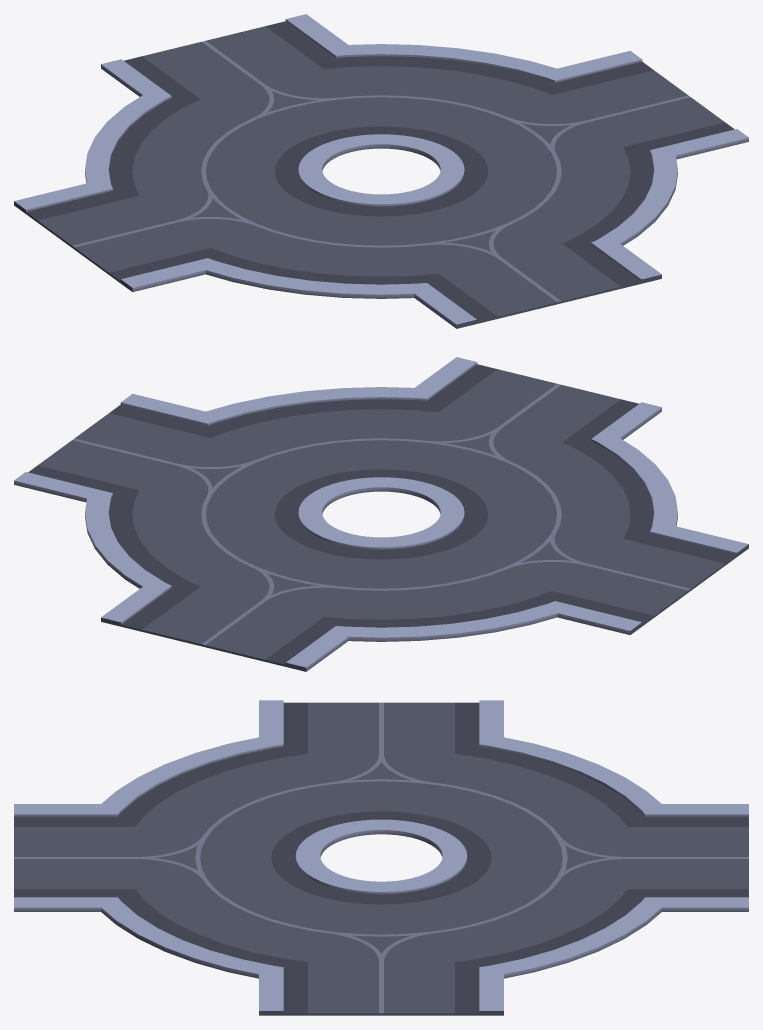
Rendered from road-roundabout.glb.
3 views of the same model, one above another, from view 1: azimuth 30°, elevation 25°; view 2: azimuth 150°, elevation 25°; view 3: azimuth 270°, elevation 25° (orthographic). The views are drawn at different scales.
Parts seen in each view (by area): view 1: road-roundabout; view 2: road-roundabout; view 3: road-roundabout.
Part boxes in pixels (x1,y1,x2,y2): road-roundabout: (14,14,748,328); road-roundabout: (14,357,748,671); road-roundabout: (14,700,748,1015).
Bounding box in the file's own units: 3 × 0.02 × 3.
